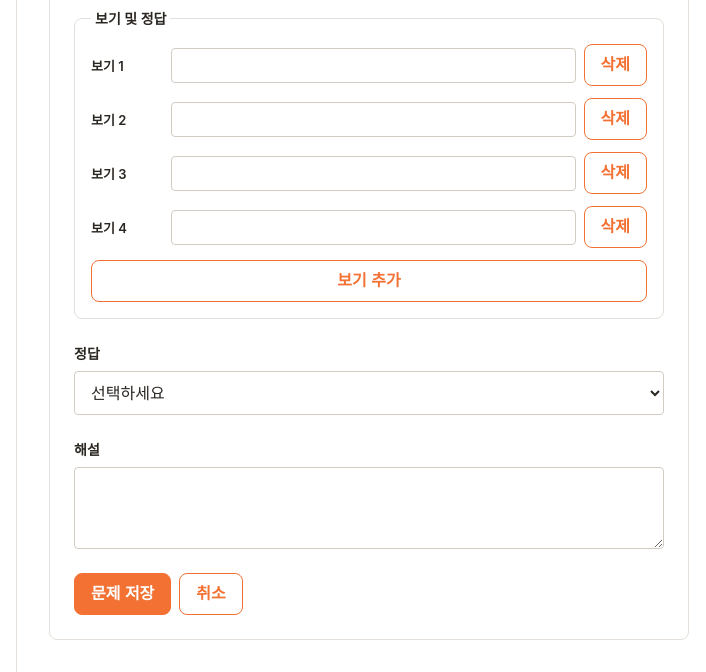
Scenario: QuestionCreatePage › blocks submission and shows field errors when required fields are missing
(page scrolled)
Click the button "문제 저장".
click(123, 594)  # box [74,573,171,615]
(page scrolled)
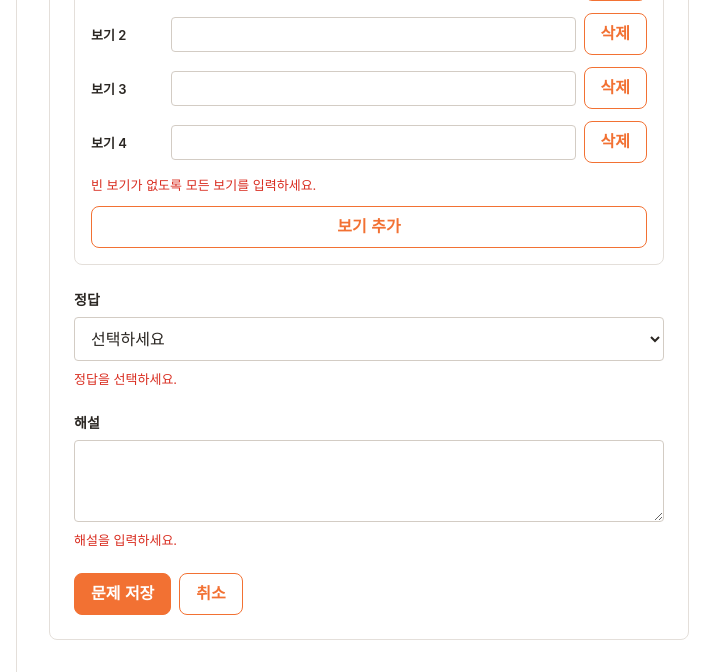
Now the text "빈 보기가 없도록 모든 보기를 입력하세요." is shown, box [91,177,316,193]
Now the text "정답을 선택하세요." is shown, box [74,371,177,387]
Now the text "해설을 입력하세요." is shown, box [74,532,177,548]
